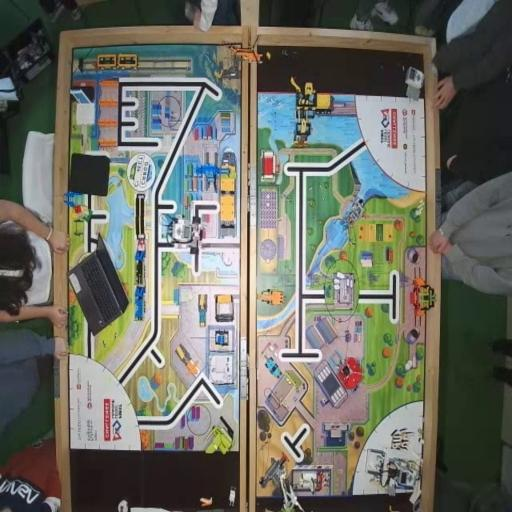lego_robot: (364, 448, 422, 498), (161, 211, 206, 254)
